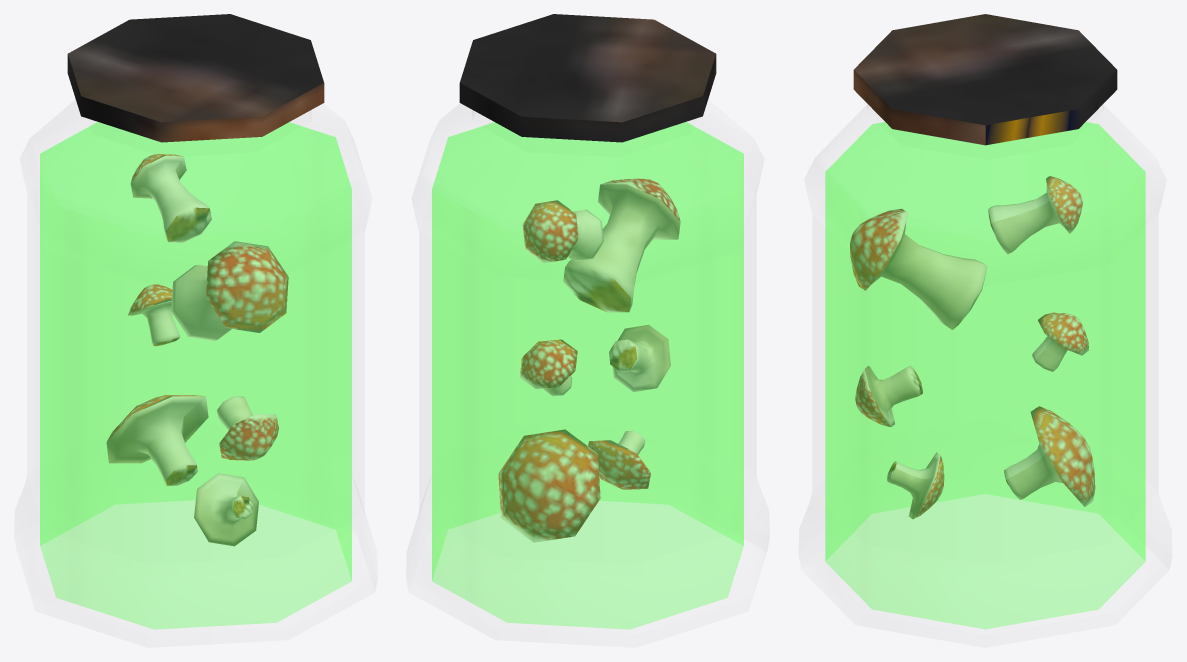
File: MushroomJar.fbx
The picture shows the model from 3 angles, left to right: view 1: azimuth 30°, elevation 25°; view 2: azimuth 150°, elevation 25°; view 3: azimuth 270°, elevation 25°; orthographic projection.
Visible parts, largest first — view 1: Prop_Liquid, MushroomJar, Mushroom.005, Mushroom.001, Mushroom.002, Mushroom.004, Mushroom.003, Mushroom; view 2: Prop_Liquid, MushroomJar, Mushroom.001, Mushroom.005, Mushroom.002, Mushroom.003, Mushroom, Mushroom.004; view 3: Prop_Liquid, MushroomJar, Mushroom.005, Mushroom.001, Mushroom.002, Mushroom.003, Mushroom, Mushroom.004.
Boxes of the visible parts, x1,y1,x2,y2 form: Prop_Liquid: (40, 122, 351, 629); MushroomJar: (67, 14, 364, 514); Mushroom.005: (171, 241, 288, 340); Mushroom.001: (106, 395, 208, 485); Mushroom.002: (130, 154, 211, 242); Mushroom.004: (194, 473, 258, 546); Mushroom.003: (217, 396, 278, 460); Mushroom: (128, 284, 179, 346); Prop_Liquid: (432, 122, 743, 629); MushroomJar: (419, 14, 716, 514); Mushroom.001: (498, 429, 600, 542); Mushroom.005: (563, 178, 680, 312); Mushroom.002: (522, 200, 603, 263); Mushroom.003: (609, 324, 670, 391); Mushroom: (520, 339, 577, 395); Mushroom.004: (588, 430, 650, 489); Prop_Liquid: (825, 122, 1145, 628); MushroomJar: (853, 14, 1117, 145); Mushroom.005: (850, 208, 987, 329); Mushroom.001: (1004, 406, 1095, 506); Mushroom.002: (988, 176, 1082, 254); Mushroom.003: (855, 366, 922, 426); Mushroom: (1032, 312, 1088, 371); Mushroom.004: (887, 452, 944, 519).
Size of the model in its own units: 194 by 286 by 194.
